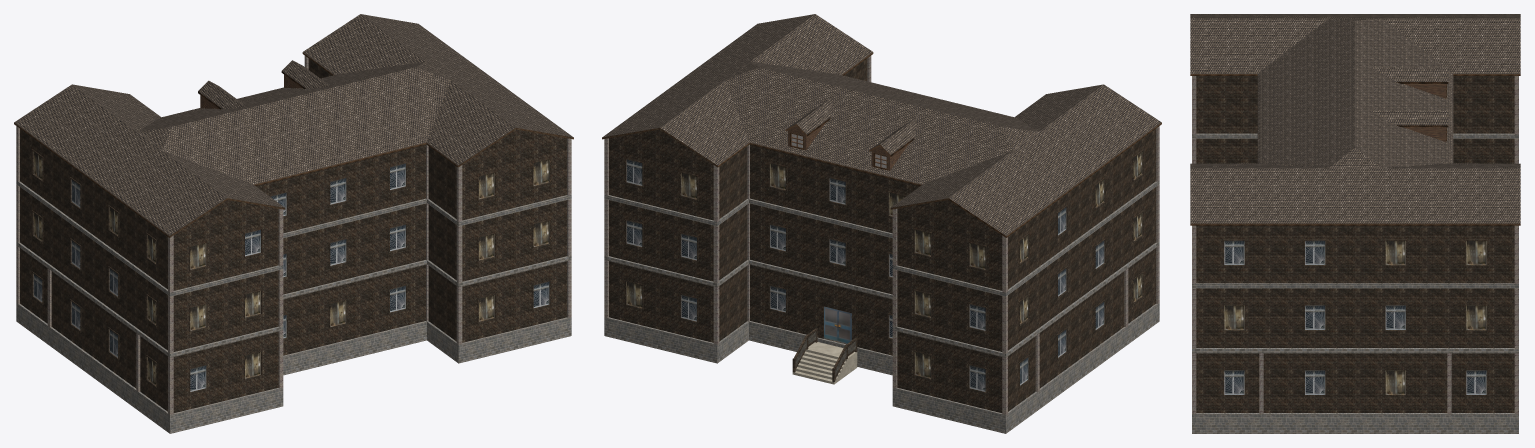
Rendered from bigHouseSplit.obj.
3 renders of one model, left to right at view 1: azimuth 30°, elevation 25°; view 2: azimuth 150°, elevation 25°; view 3: azimuth 270°, elevation 25°, orthographic. The views are drawn at different scales.
Parts seen in each view (by area): view 1: building_005_building_005_mesh.001_mat_walls, building_005_building_005_mesh.001_mat_roof, building_005_building_005_mesh.001_mat_slabs, building_005_building_005_mesh.001_mat_columns, building_005_building_005_mesh.001_mat_window.001, building_005_building_005_mesh.001_mat_window, building_005_building_005_mesh.001_mat_roof_hangs; view 2: building_005_building_005_mesh.001_mat_walls, building_005_building_005_mesh.001_mat_roof, building_005_building_005_mesh.001_mat_slabs, building_005_building_005_mesh.001_mat_columns, building_005_building_005_mesh.001_mat_window, building_005_building_005_mesh.001_mat_window.001, building_005_building_005_mesh.001_mat_roof_hangs, building_005_building_005_mesh.001_mat_stairs, building_005_building_005_mesh.001_mat_door, building_005_building_005_mesh.001_mat_window_bars; view 3: building_005_building_005_mesh.001_mat_walls, building_005_building_005_mesh.001_mat_roof, building_005_building_005_mesh.001_mat_slabs, building_005_building_005_mesh.001_mat_window, building_005_building_005_mesh.001_mat_columns, building_005_building_005_mesh.001_mat_window.001, building_005_building_005_mesh.001_mat_roof_hangs, building_005_building_005_mesh.001_mat_window_bars.
Boxes of the visible parts, box(x1,y1,x2,y2) form: building_005_building_005_mesh.001_mat_walls: box(20, 58, 566, 412); building_005_building_005_mesh.001_mat_roof: box(14, 14, 573, 235); building_005_building_005_mesh.001_mat_slabs: box(16, 180, 571, 433); building_005_building_005_mesh.001_mat_columns: box(16, 55, 571, 414); building_005_building_005_mesh.001_mat_window.001: box(33, 152, 549, 385); building_005_building_005_mesh.001_mat_window: box(33, 163, 549, 391); building_005_building_005_mesh.001_mat_roof_hangs: box(14, 52, 573, 237); building_005_building_005_mesh.001_mat_walls: box(609, 58, 1155, 412); building_005_building_005_mesh.001_mat_roof: box(602, 14, 1161, 235); building_005_building_005_mesh.001_mat_slabs: box(604, 180, 1159, 433); building_005_building_005_mesh.001_mat_columns: box(604, 55, 1159, 414); building_005_building_005_mesh.001_mat_window: box(626, 159, 1104, 391); building_005_building_005_mesh.001_mat_window.001: box(626, 152, 1142, 378); building_005_building_005_mesh.001_mat_roof_hangs: box(602, 52, 1161, 237); building_005_building_005_mesh.001_mat_stairs: box(792, 342, 857, 384); building_005_building_005_mesh.001_mat_door: box(824, 306, 851, 343); building_005_building_005_mesh.001_mat_window_bars: box(788, 124, 908, 170); building_005_building_005_mesh.001_mat_walls: box(1196, 76, 1514, 412); building_005_building_005_mesh.001_mat_roof: box(1190, 14, 1520, 223); building_005_building_005_mesh.001_mat_slabs: box(1192, 133, 1518, 433); building_005_building_005_mesh.001_mat_window: box(1224, 240, 1486, 394); building_005_building_005_mesh.001_mat_columns: box(1192, 76, 1518, 413); building_005_building_005_mesh.001_mat_window.001: box(1224, 240, 1486, 394); building_005_building_005_mesh.001_mat_roof_hangs: box(1190, 74, 1520, 225); building_005_building_005_mesh.001_mat_window_bars: box(1404, 84, 1446, 141).
Bounding box in the file's own units: 22.14 × 12.15 × 14.74.
Materials: 12 (11 with a texture image).
